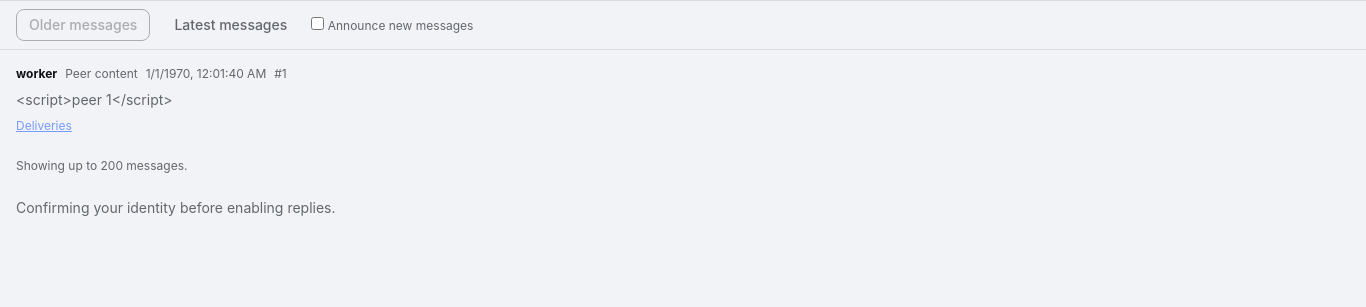
Test case: message deliveries: a reader sees counts only
The width and height of the screenshot is (1366, 307).
What coordinates should you click on to do the following:
click the button "Deliveries"
I would click on:
 (44, 126)
Its box is [16, 118, 72, 134].
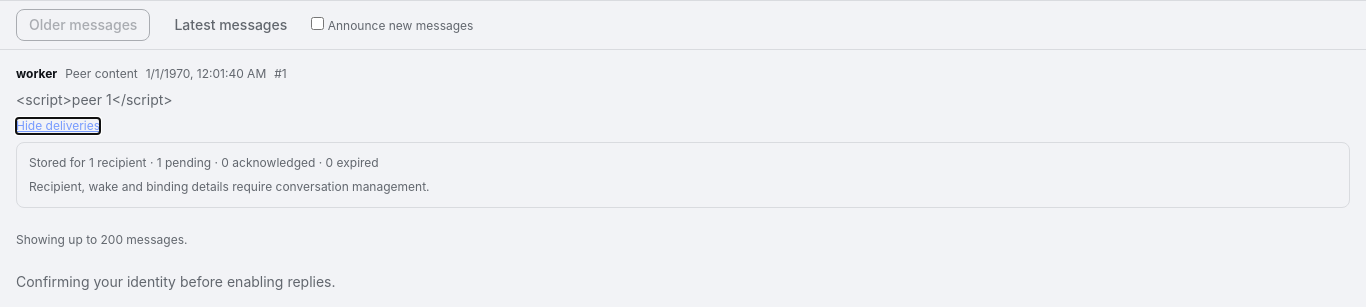
Check: the text "Stored for 1 recipient · 1 pending" is shown, box [29, 155, 379, 170]
Check: the button "Hide deliveries" is expanded, box [16, 118, 100, 134]
Check: the text "require conversation management" is shown, box [29, 179, 430, 194]
